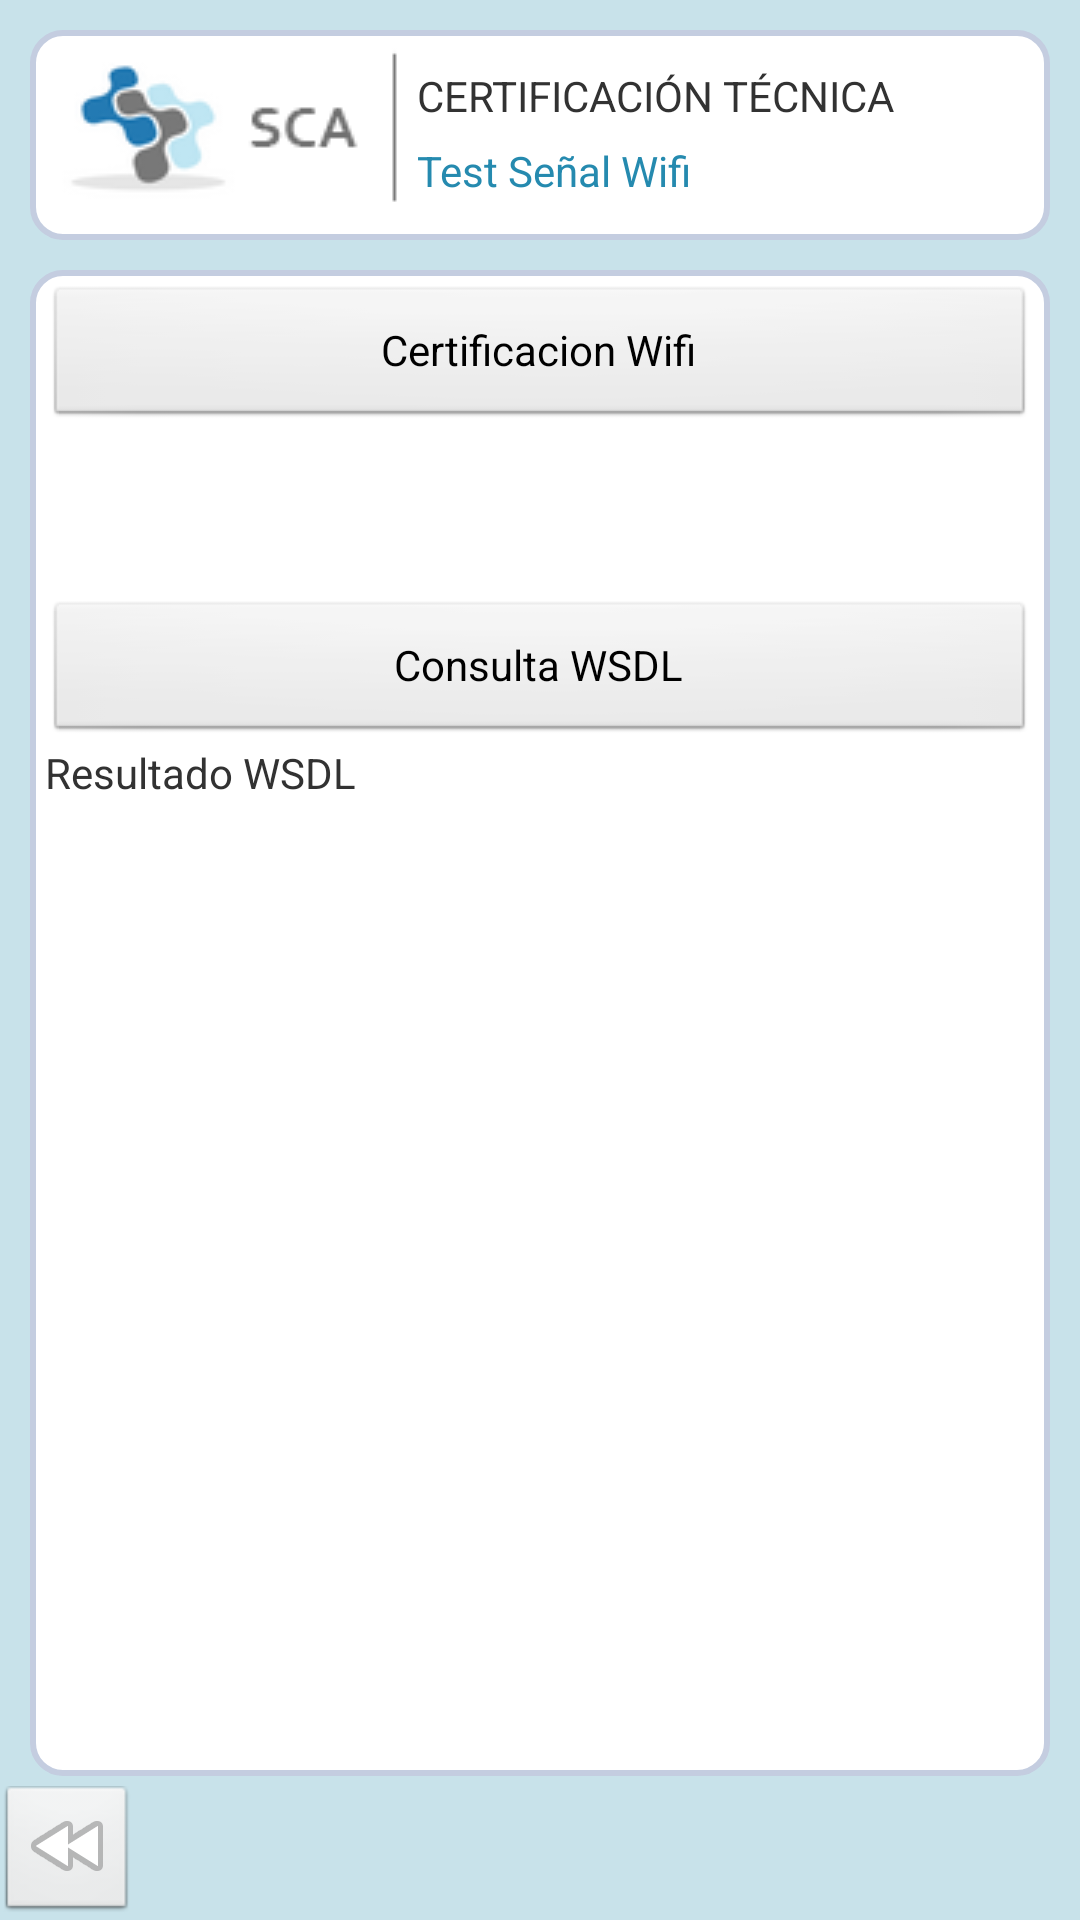

Icons on this 1080px x 1920px Android screen, each with its box as (x1, y1, x2, y2):
Volver: (5, 1786, 128, 1910)
